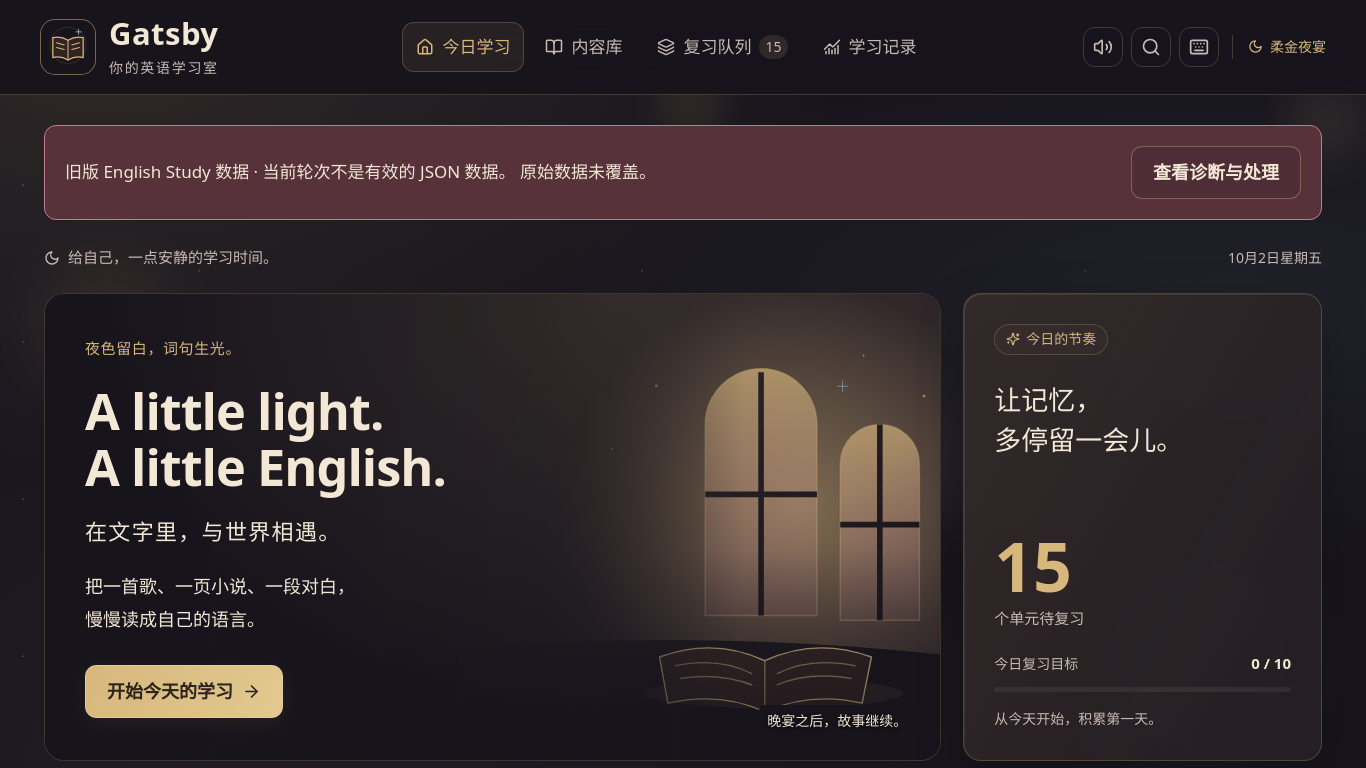
it: shows specific diagnostic information and can reset corrupt testing data
Expected: the message shows "当前轮次", x1=65 y1=160 x2=656 y2=183
Step 1. Click the button "查看诊断与处理" → click(1216, 172), box x1=1131 y1=146 x2=1301 y2=199
(page scrolled)
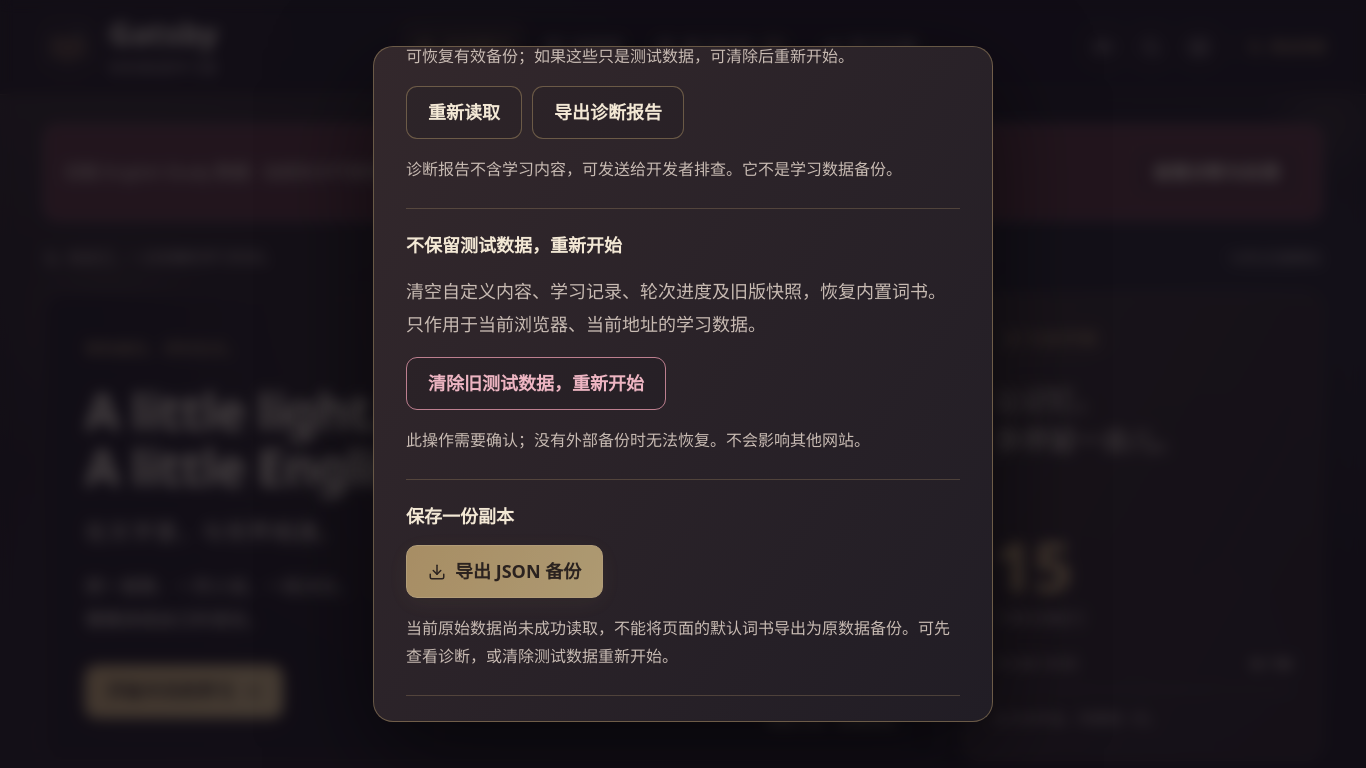
Step 2. Click the button "清除旧测试数据，重新开始" → click(536, 384), box x1=406 y1=357 x2=666 y2=410
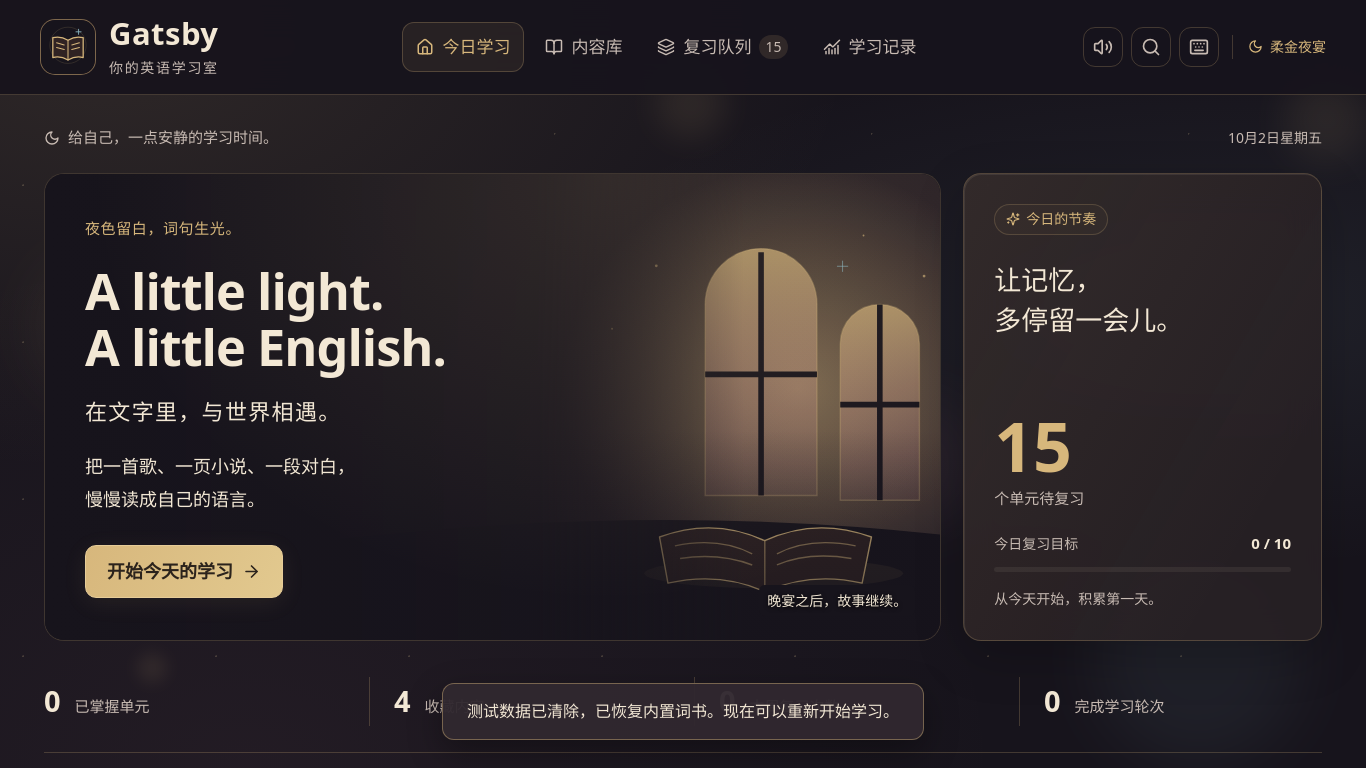
Expected: the dialog is gone
Step 3. Click the button "开始今天的学习" → click(184, 572), box x1=85 y1=545 x2=283 y2=598
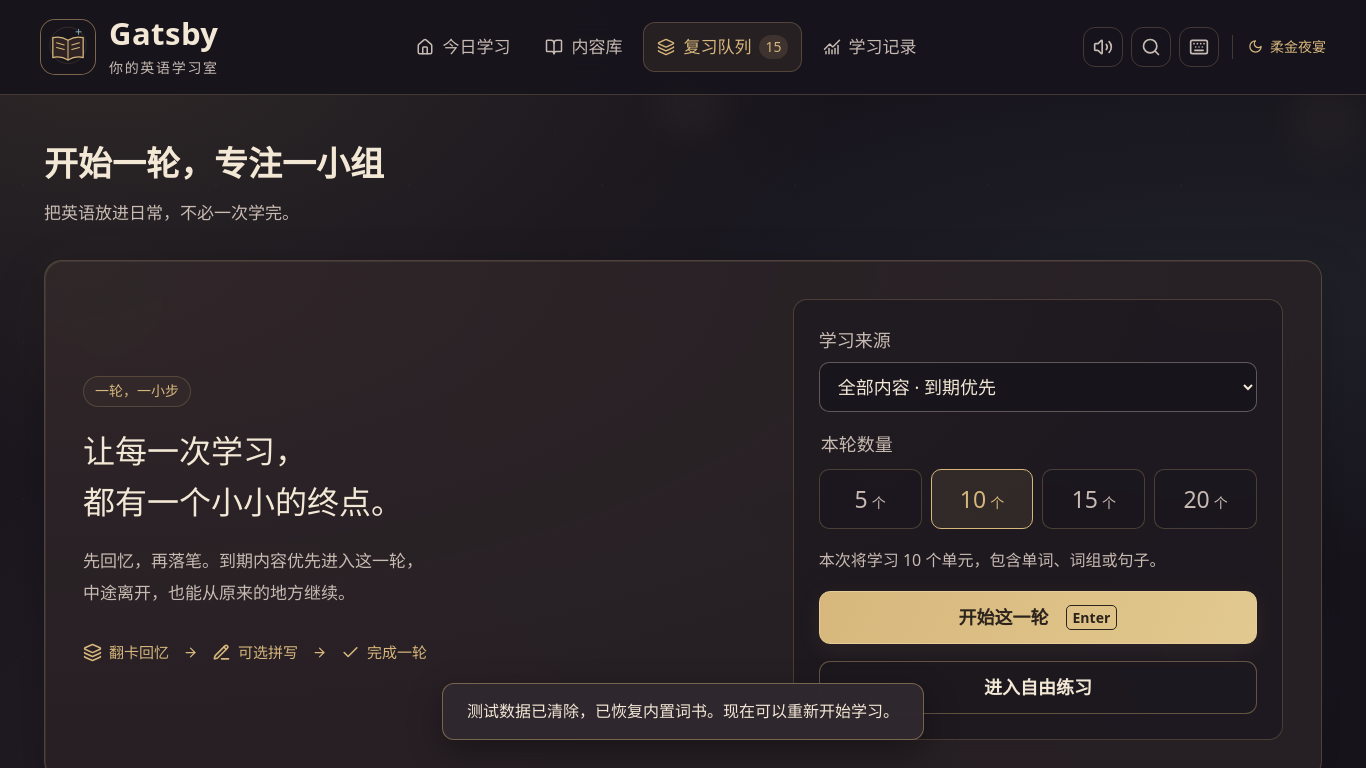
Step 4. Click the button "开始这一轮 Enter" → click(1038, 618), box x1=819 y1=591 x2=1257 y2=644
(page scrolled)
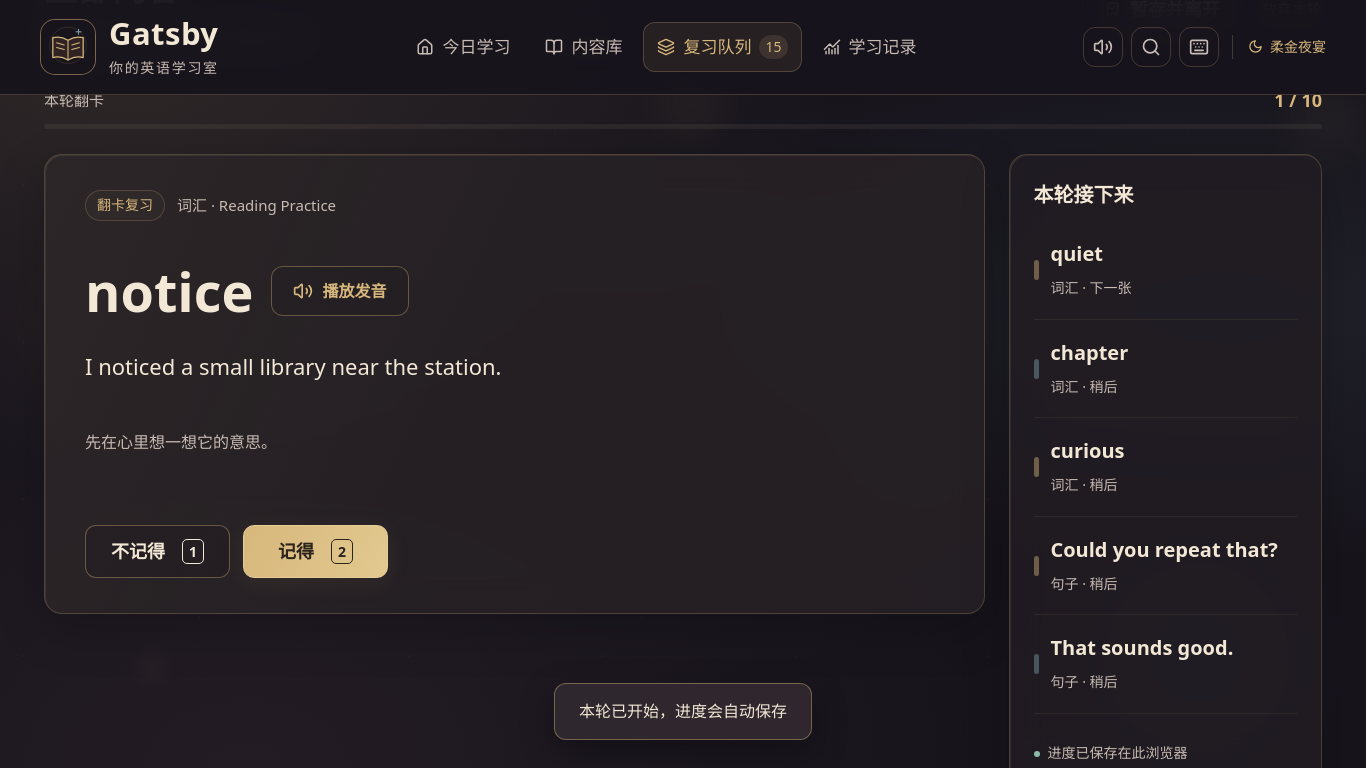
Expected: the element with class "study-card" is shown, x1=44 y1=154 x2=984 y2=614
